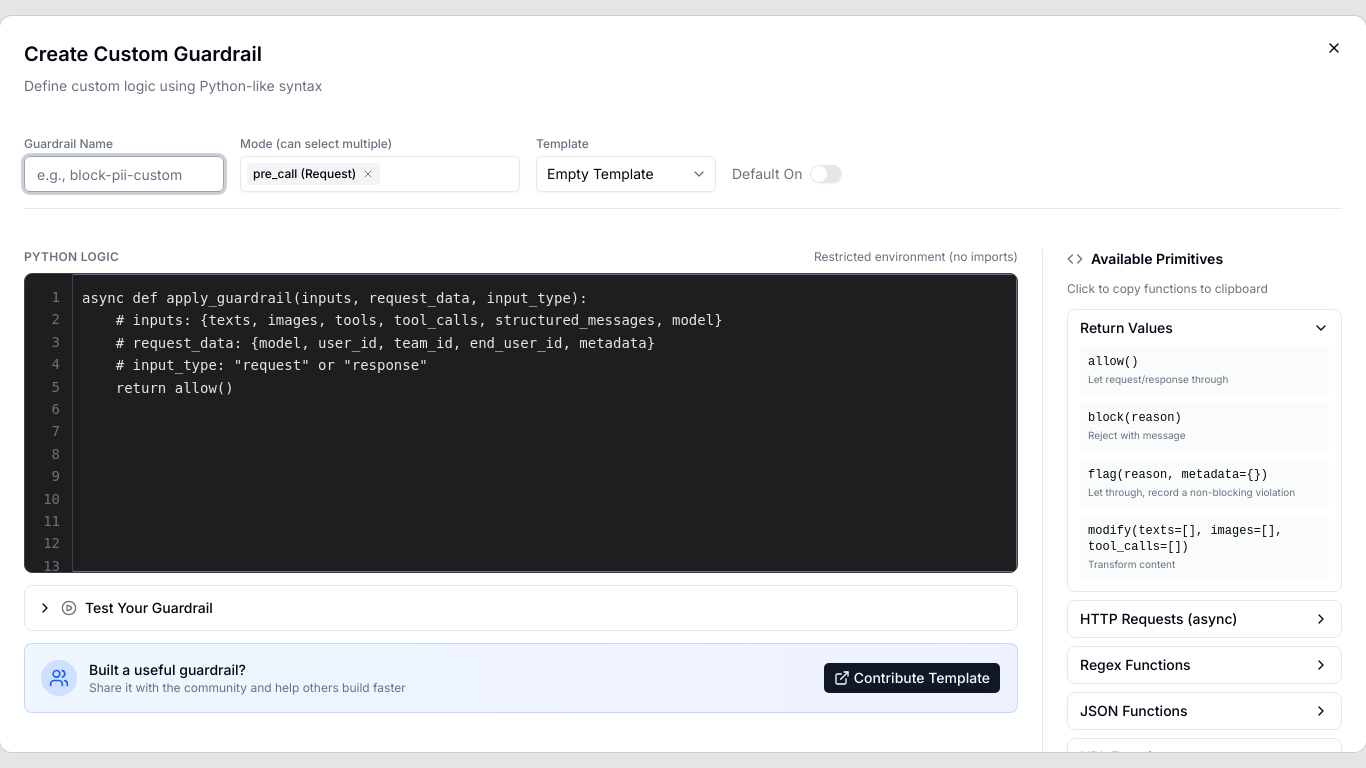
Test: CustomCodeModal › should switch the editor contents when a template is chosen
Expected: the text box showing "async def apply_guardrail" is shown, [25,274,1017,572]
Click the dropdown labelled "Empty Template ▼".
click(626, 174)  # box [536,156,716,192]
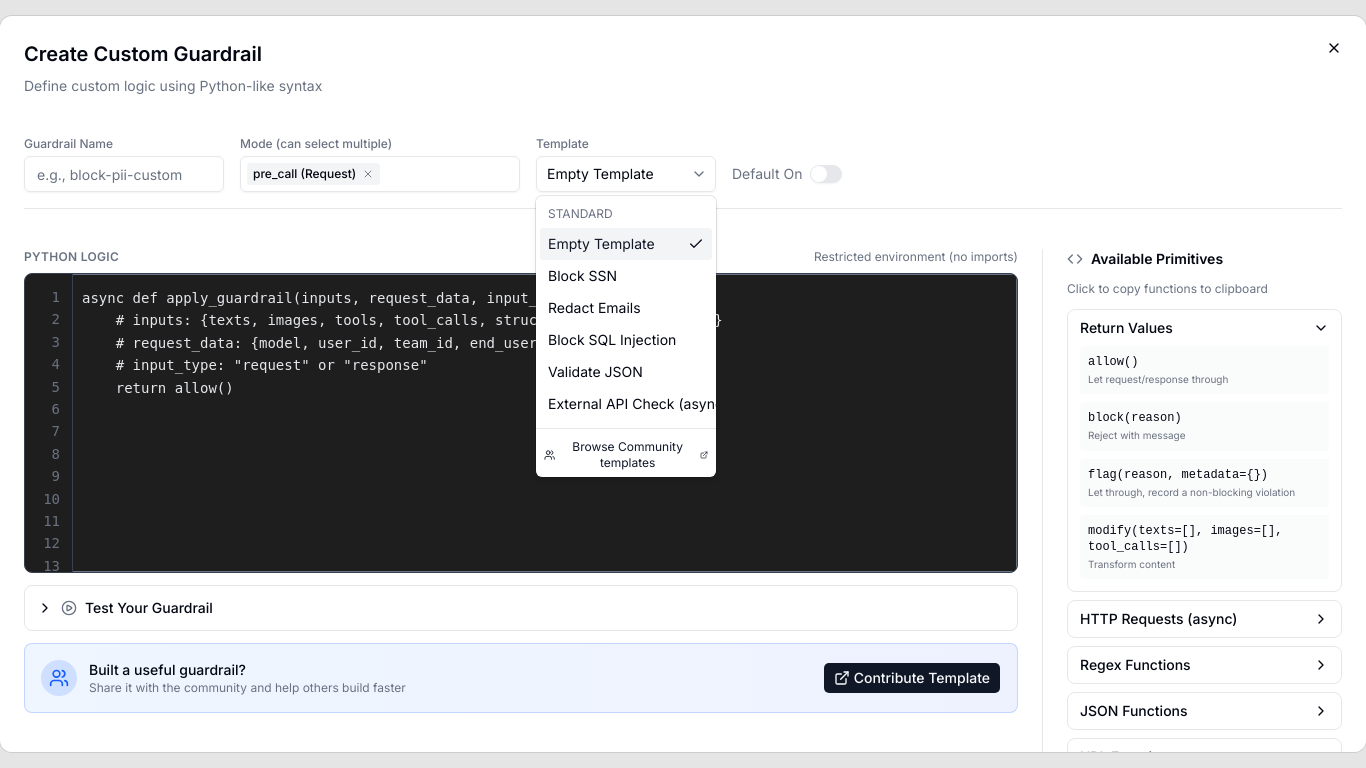
Click the option "Block SSN".
click(583, 276)  # box [548,267,617,284]
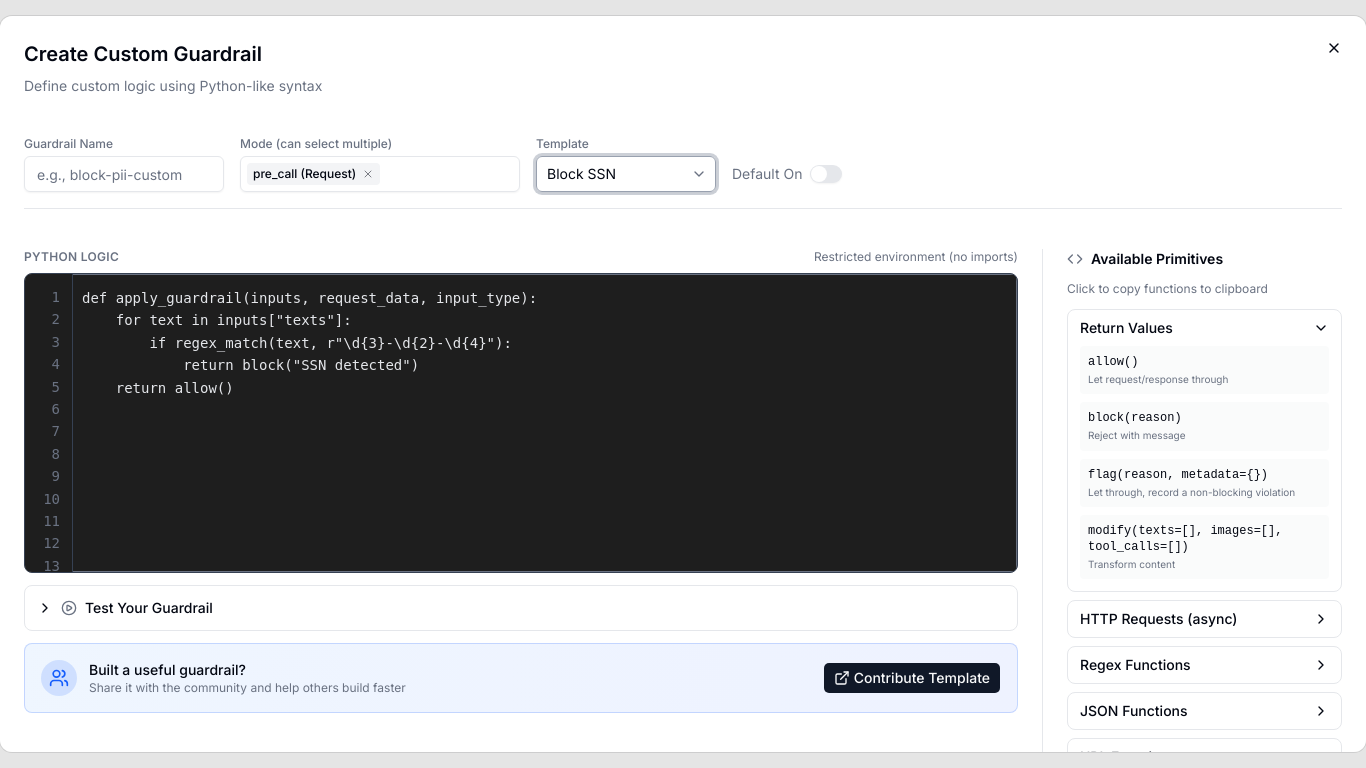
Now the text box showing "SSN detected" is shown, box [25,274,1017,572]
